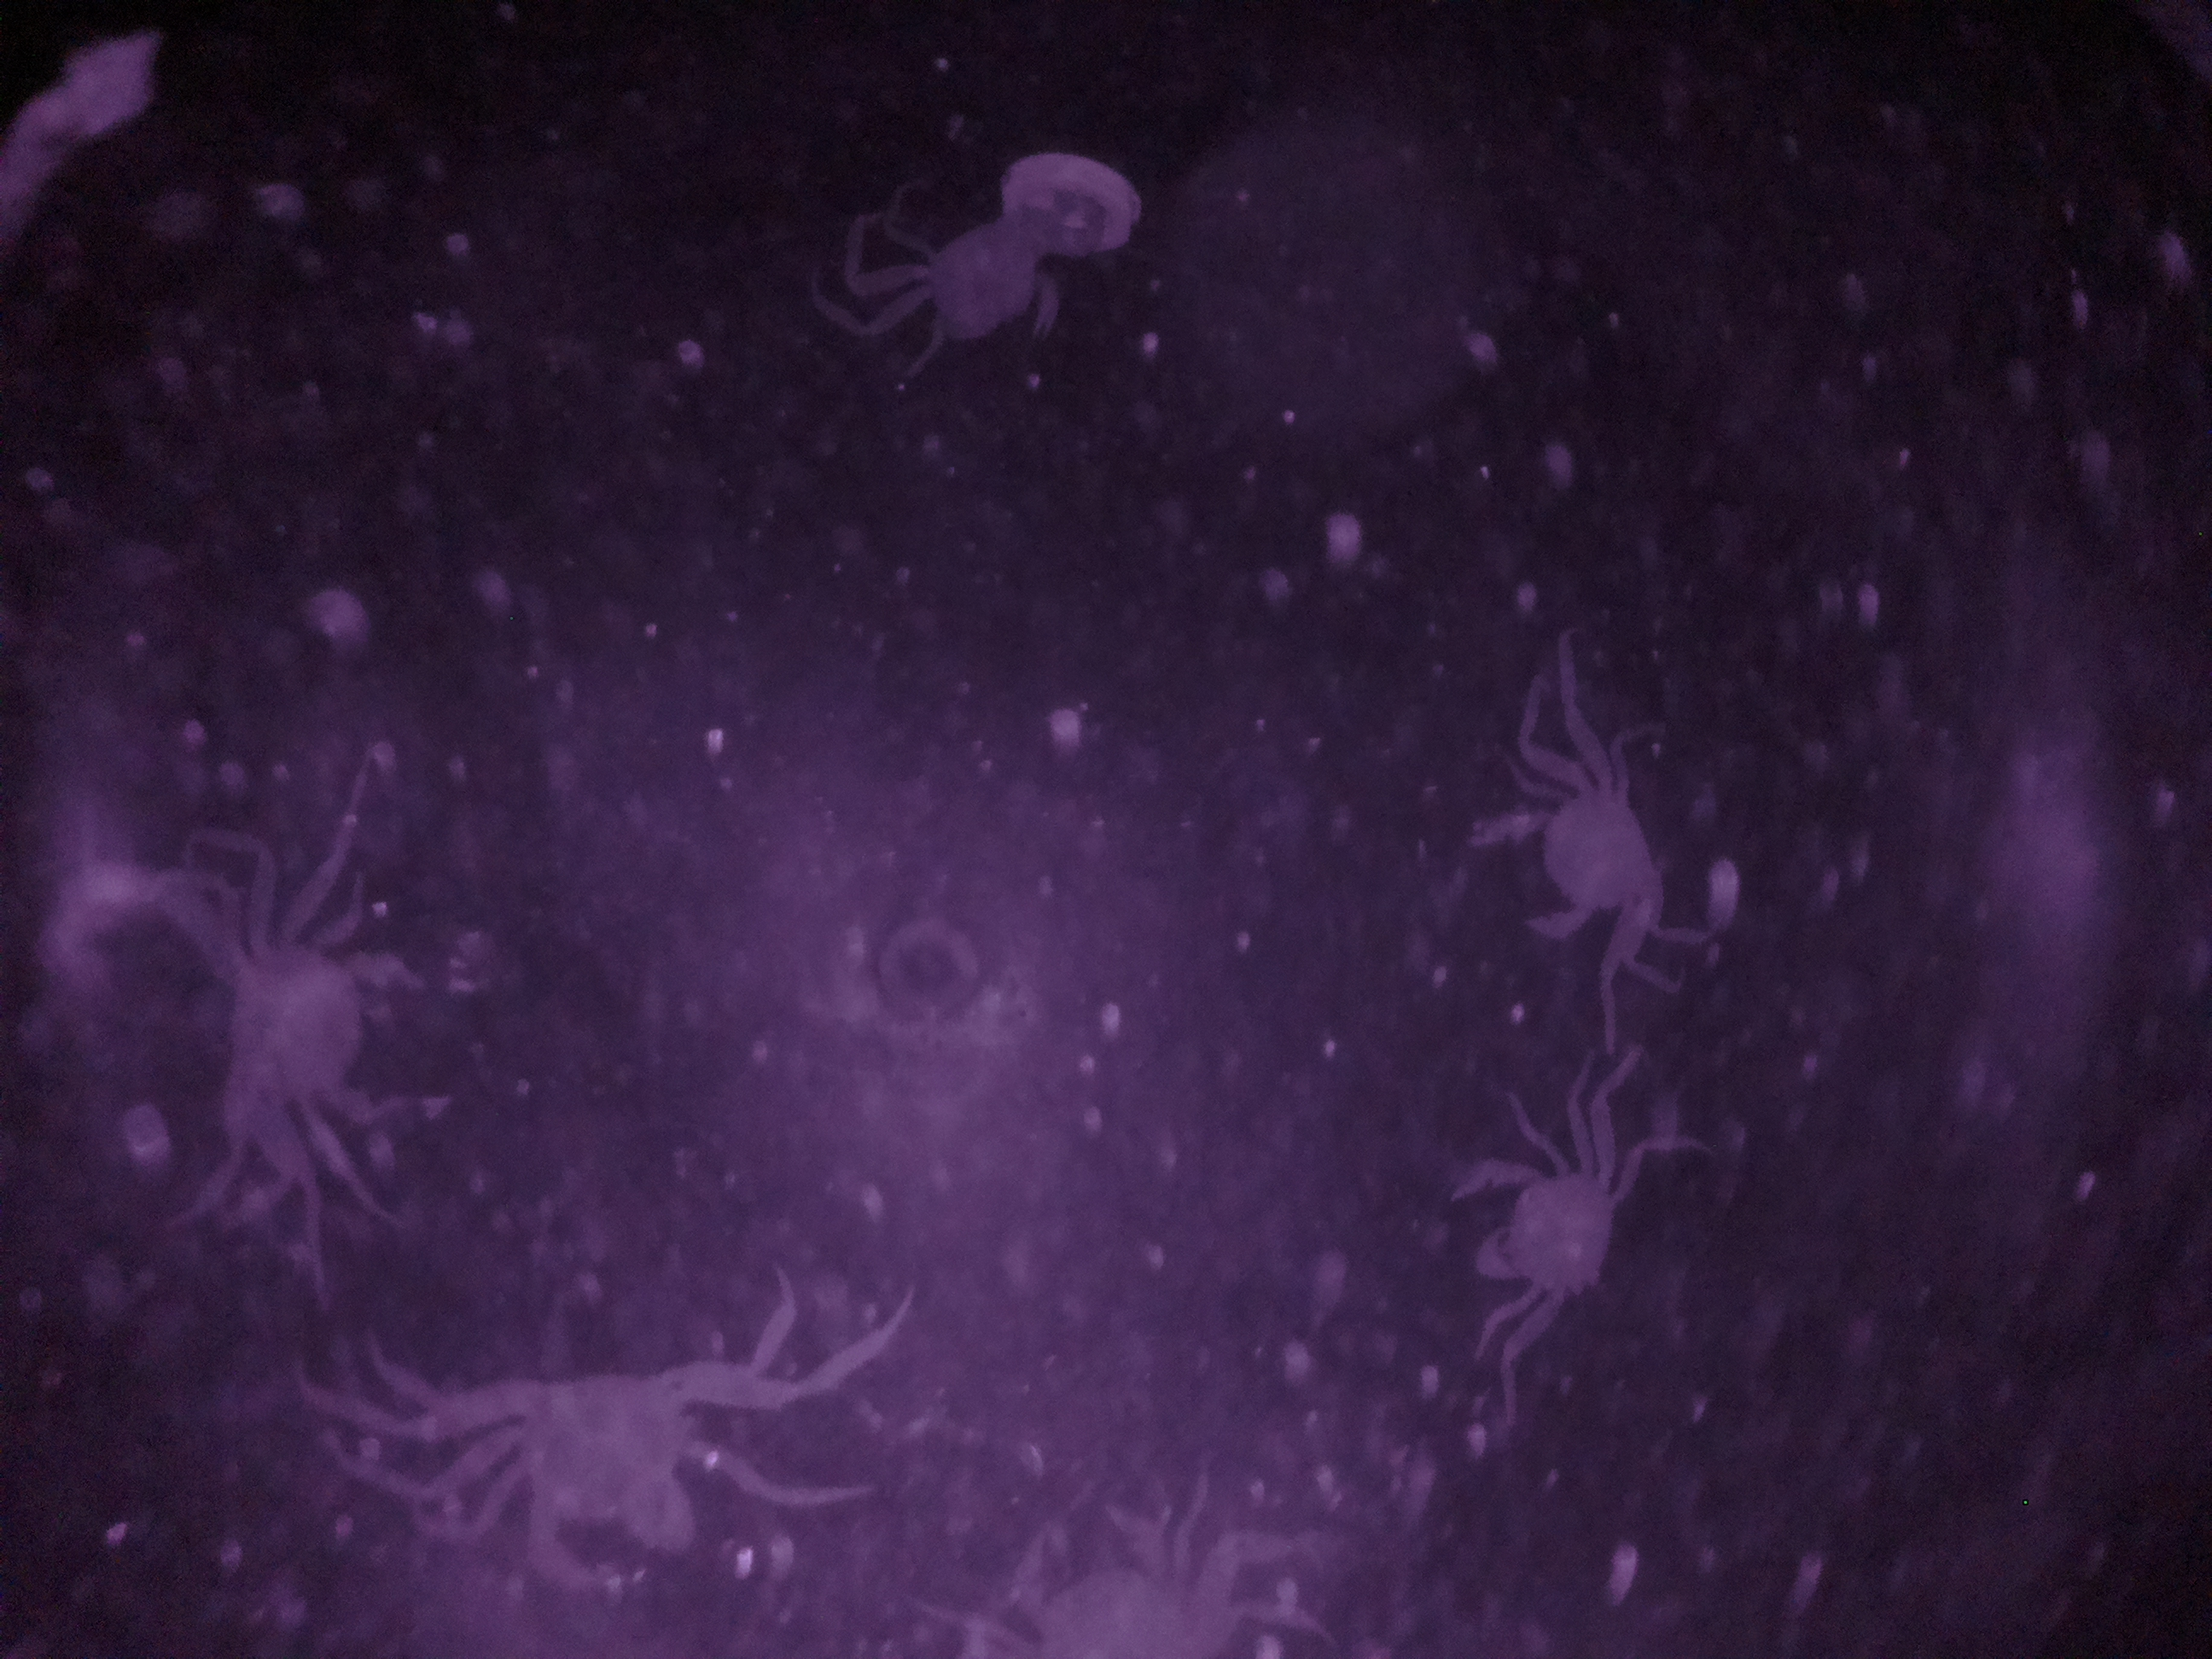Crab: (1465, 741, 1681, 979), (1432, 1121, 1637, 1338)
